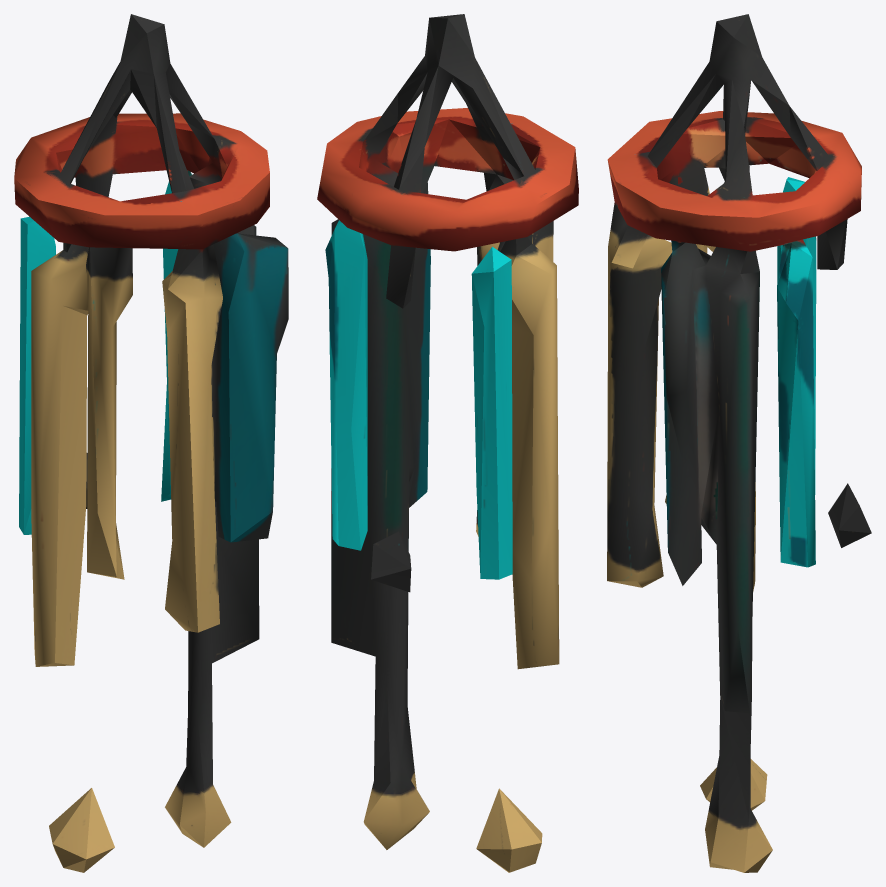
The model's file is bone-chime.glb.
3 views of the same model, side by side, from view 1: azimuth 30°, elevation 25°; view 2: azimuth 150°, elevation 25°; view 3: azimuth 270°, elevation 25° (orthographic).
Visible parts, largest first — view 1: geometry_0.001; view 2: geometry_0.001; view 3: geometry_0.001.
Boxes of the visible parts, box(x1,y1,x2,y2) form: geometry_0.001: box(14, 14, 288, 872); geometry_0.001: box(317, 14, 578, 872); geometry_0.001: box(607, 14, 871, 872).
Size of the model in its own units: 0.2824 by 1 by 0.2874.
Materials: 1 (1 with a texture image).
